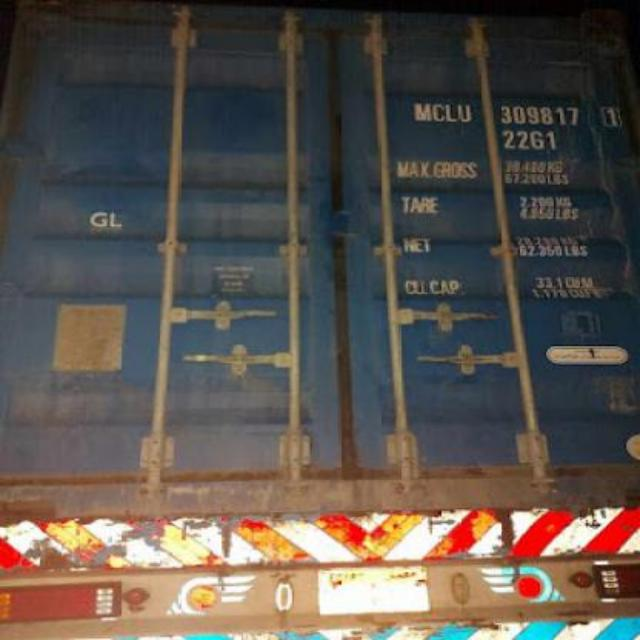0: (514, 106, 526, 124)
1: (606, 108, 618, 126), (556, 108, 566, 126)
3: (500, 107, 512, 123)
7: (566, 106, 582, 126)
8: (542, 108, 552, 124)
9: (528, 105, 540, 125)
C: (432, 103, 446, 123)
L: (446, 103, 458, 121)
M: (414, 100, 430, 122)
U: (458, 103, 472, 123)
